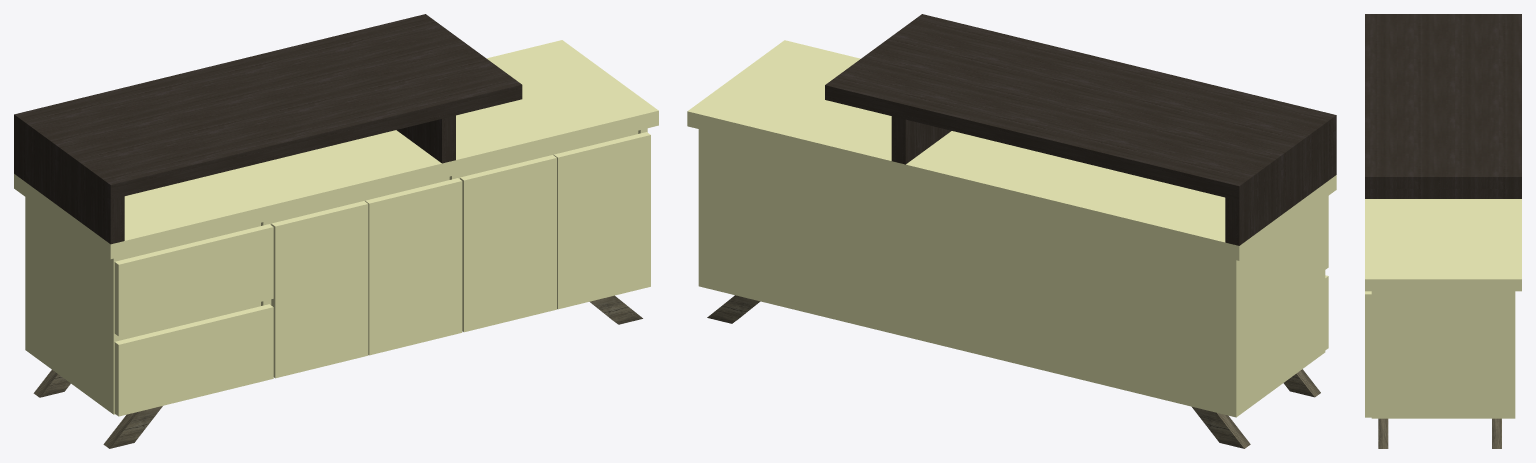
File: 001_Zeus-Cucine.glb
3 views of the same model, side by side, from view 1: azimuth 30°, elevation 25°; view 2: azimuth 150°, elevation 25°; view 3: azimuth 270°, elevation 25° (orthographic). The views are drawn at different scales.
Visible parts, largest first — view 1: root; view 2: root; view 3: root.
Boxes of the visible parts, x1,y1,x2,y2 form: root: [14, 14, 658, 448]; root: [687, 14, 1336, 448]; root: [1365, 14, 1521, 448].
Bounding box in the file's own units: 1.54 × 0.7291 × 0.47.
Materials: 3 (2 with a texture image).
